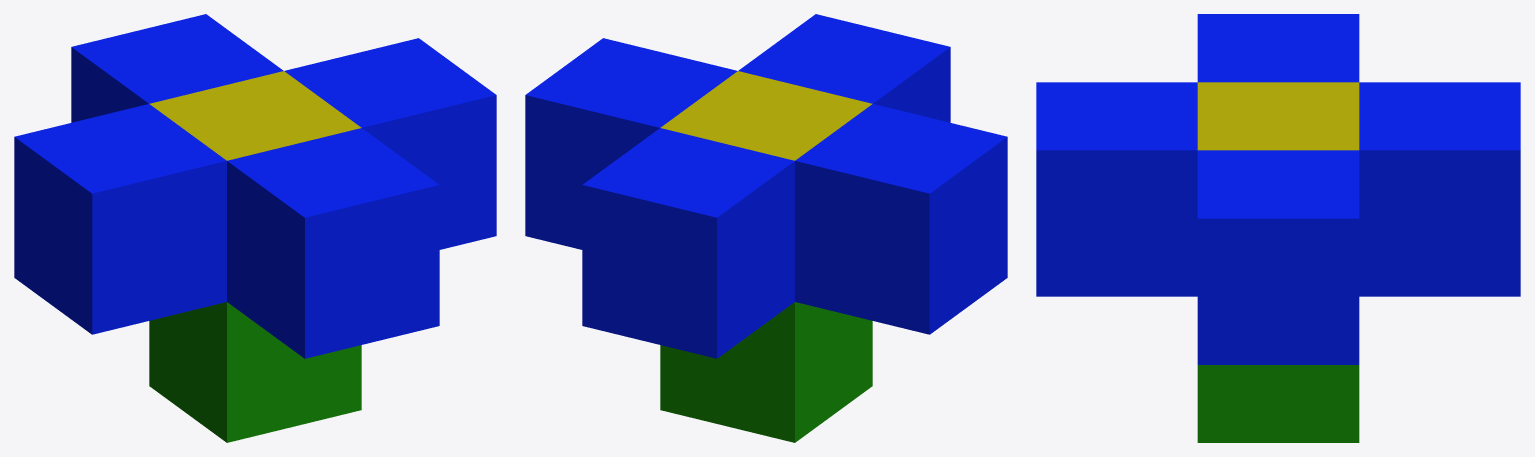
File: (3) Blue Flowers (Stage 3).obj
The picture shows the model from 3 angles, left to right: view 1: azimuth 30°, elevation 25°; view 2: azimuth 150°, elevation 25°; view 3: azimuth 270°, elevation 25°; orthographic projection. The views are drawn at different scales.
Size of the model in its own units: 0.3 by 0.2 by 0.3.
1 material, 1 textured.
